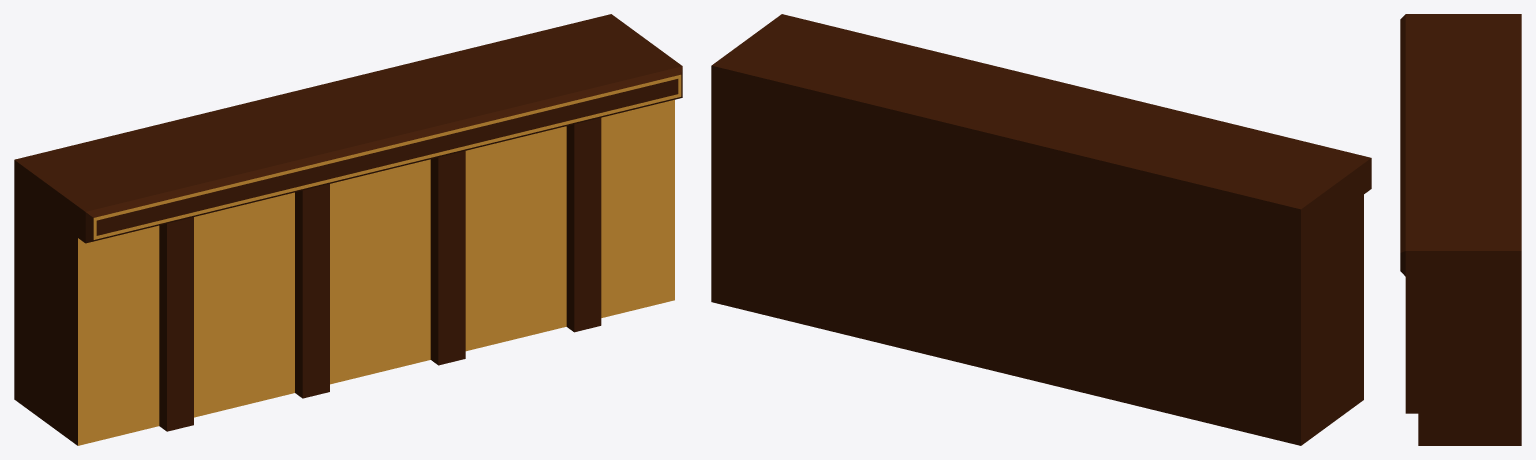
Rendered from Counter.fbx.
3 renders of one model, left to right at view 1: azimuth 30°, elevation 25°; view 2: azimuth 150°, elevation 25°; view 3: azimuth 270°, elevation 25°, orthographic. The views are drawn at different scales.
Parts seen in each view (by area): view 1: Bar; view 2: Bar; view 3: Bar.
Part boxes in pixels (x1=…): Bar: x1=14, y1=14, x2=682, y2=445; Bar: x1=711, y1=14, x2=1371, y2=445; Bar: x1=1400, y1=14, x2=1521, y2=445.
Size of the model in its own units: 945 by 362 by 205.
